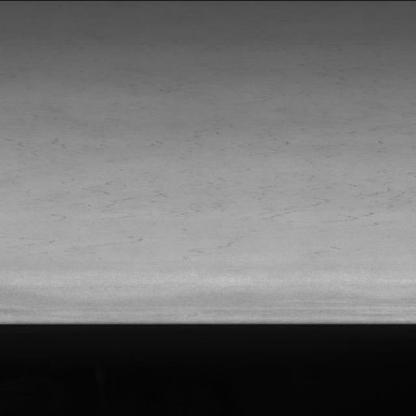silk_spot: (218, 144, 401, 235)
